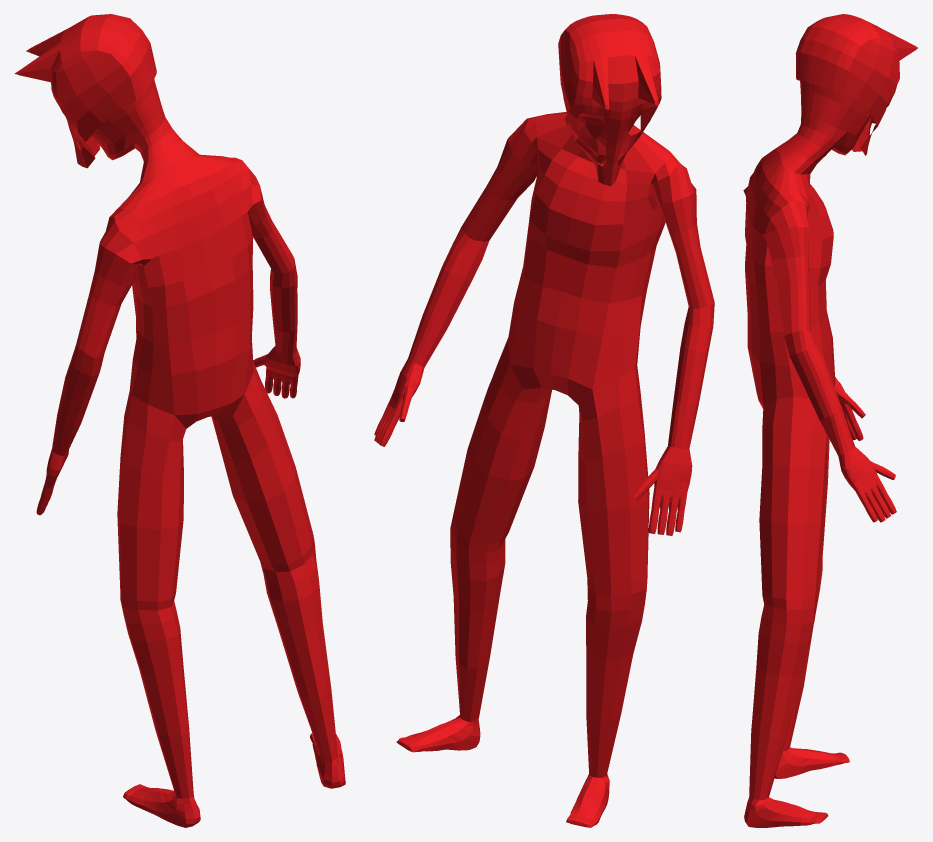
File: reposoE_000273.obj
3 renders of one model, left to right at view 1: azimuth 30°, elevation 25°; view 2: azimuth 150°, elevation 25°; view 3: azimuth 270°, elevation 25°, orthographic. The views are drawn at different scales.
Parts seen in each view (by area): view 1: Plane.002_Plane.001; view 2: Plane.002_Plane.001; view 3: Plane.002_Plane.001.
Part boxes in pixels (x1,y1,x2,y2): Plane.002_Plane.001: (14, 14, 345, 827); Plane.002_Plane.001: (374, 14, 714, 827); Plane.002_Plane.001: (743, 14, 917, 827).
Bounding box in the file's own units: 2.68 × 7.07 × 1.52.
